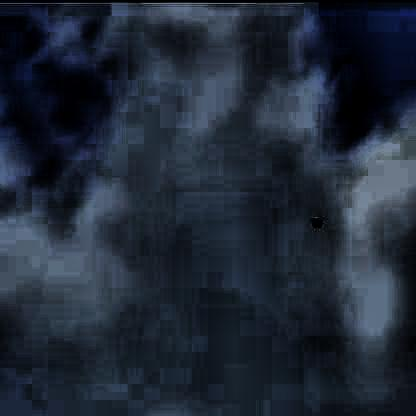golfball: (307, 215, 320, 226)
